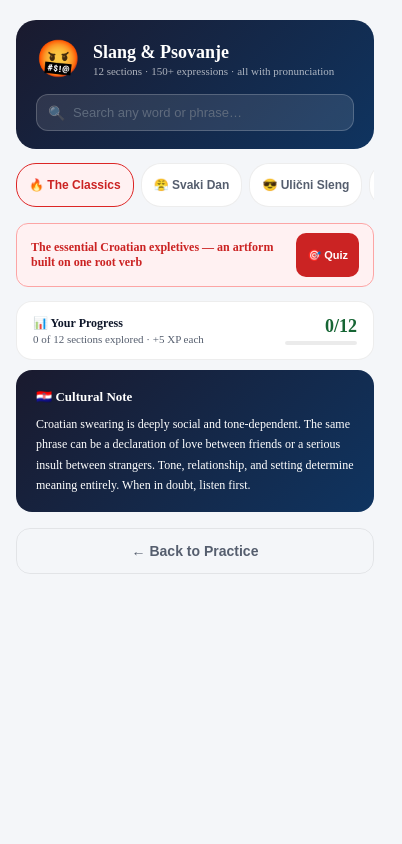
Test: SlangScreen — quiz › "✕ Exit Quiz" button appears after starting quiz
This screenshot has width=402, height=844.
Click the button "🎯 Quiz" at (328, 255), box [296,233,359,277]
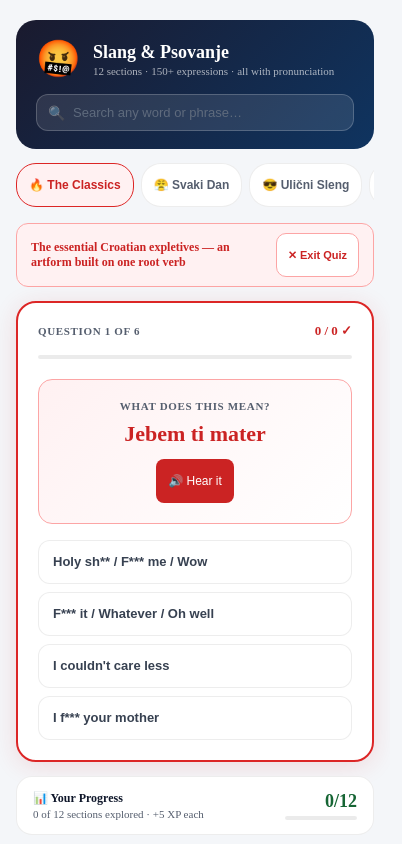
Expected: the button "✕ Exit Quiz" is shown, [276,233,359,277]
